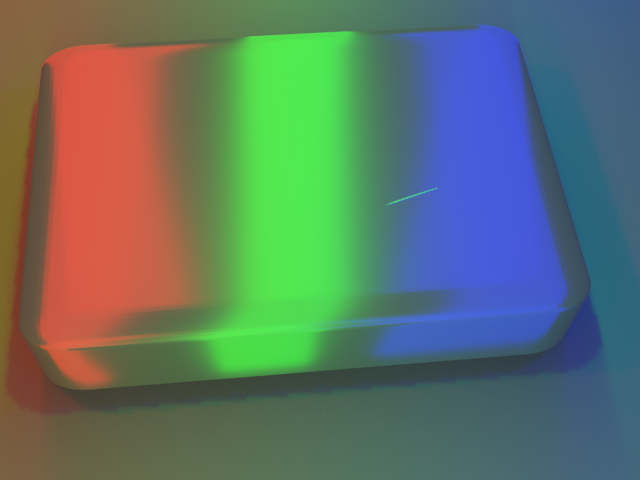scratch: (341, 142, 509, 241)
